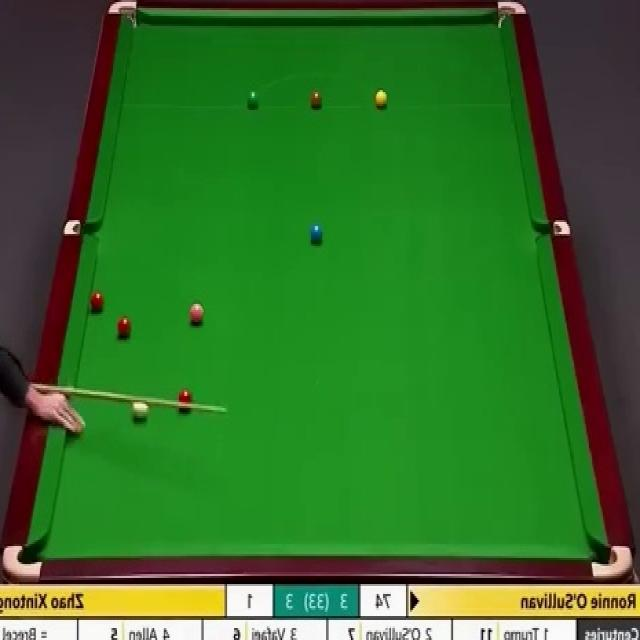pocket: (587, 540, 633, 582), (3, 543, 46, 582), (110, 0, 139, 32), (497, 0, 527, 28), (536, 218, 574, 236), (66, 220, 100, 235)
